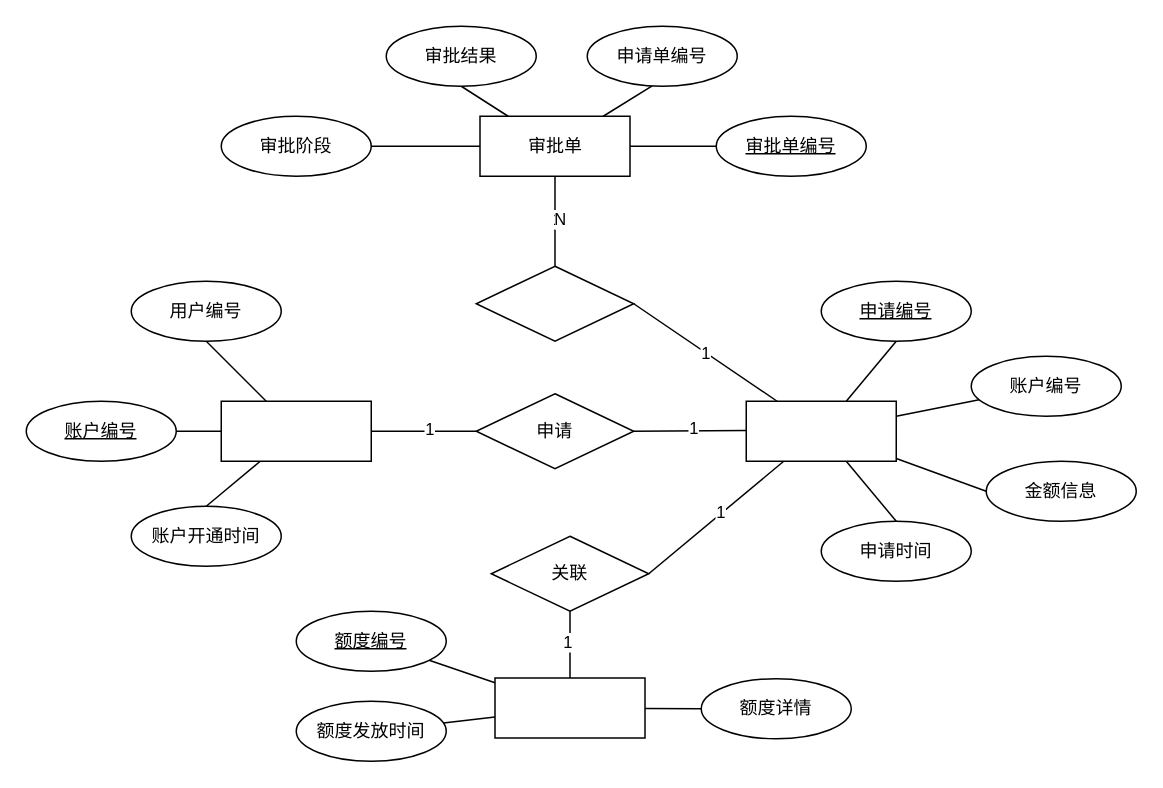
Some shapes in this 1163 by 788 pixel diagram are drawn without their labels. The shapes that lost their labels are listed below. From the top down, each one's centre as x and y in pixels, then its label:
At point (554, 303): "审批".
At point (295, 430): "账户".
At point (820, 430): "可用额度申请单".
At point (569, 707): "授信可用额度".
